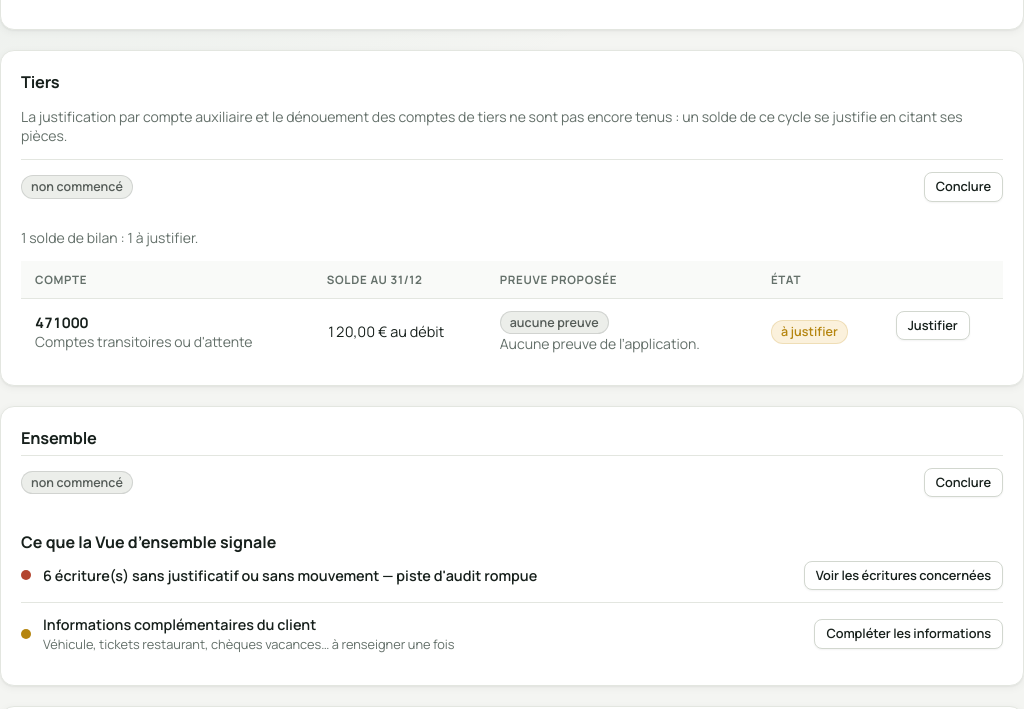
Scenario: RevisionTab — les écritures libres de l’expert-comptable (EL6) › la preuve d’un compte qu’elles touchent dit leur part, sous le numéro que l’écran résout ; rien de saisi
The image size is (1024, 709).
(page scrolled)
Click the button "Justifier" in the row of "120,00 € au débit" at [933, 325], box [896, 311, 970, 340]
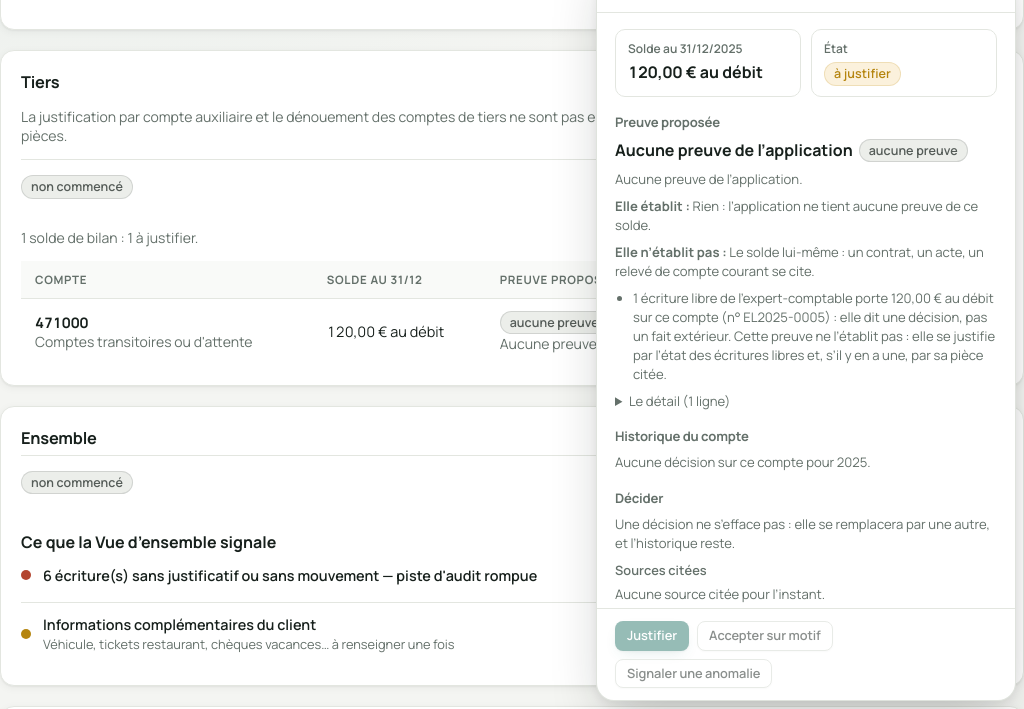
Now the text "1 écriture libre de l’expert-comptable porte 120,00 € au débit sur ce compte (n° EL2025-0005)" is shown, box [633, 289, 997, 384]
